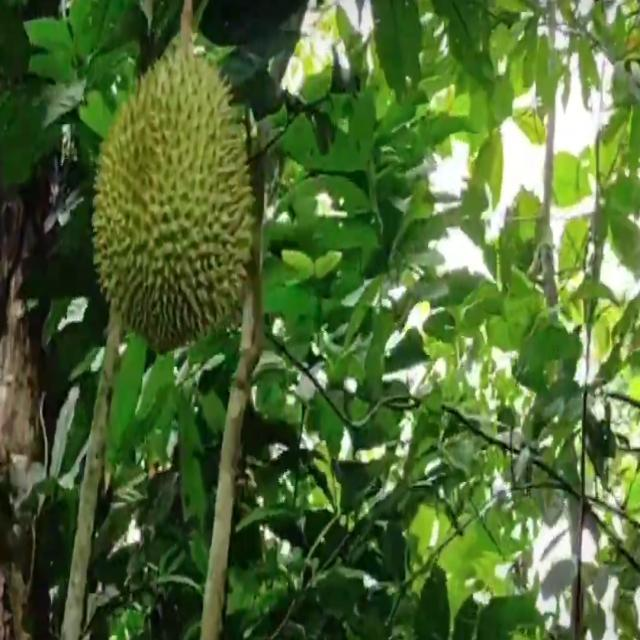immature: (89, 42, 257, 354)
